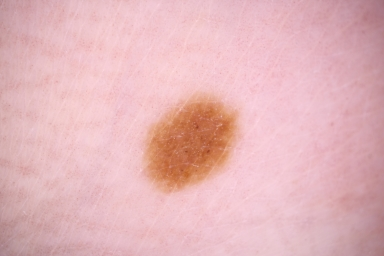melanoma: (145, 96, 234, 195)
